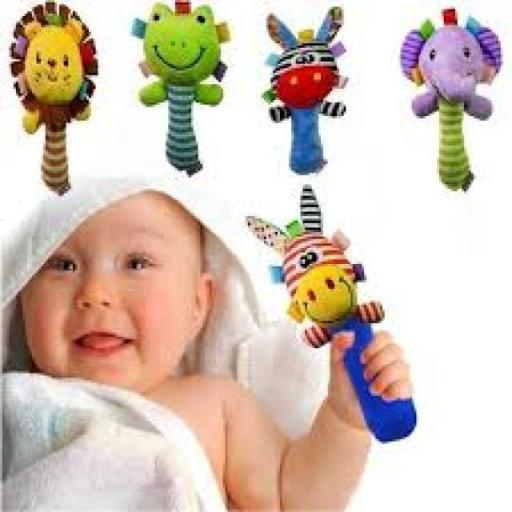baby: (0, 190, 416, 512)
